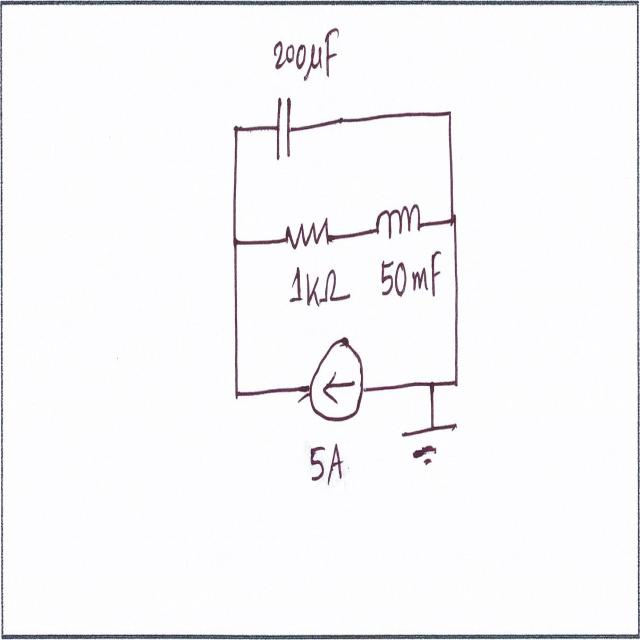capacitor: (274, 88, 296, 168)
current_source: (304, 336, 369, 429)
ground: (399, 418, 462, 477)
inductor: (372, 194, 425, 243)
resistor: (283, 216, 336, 260)
